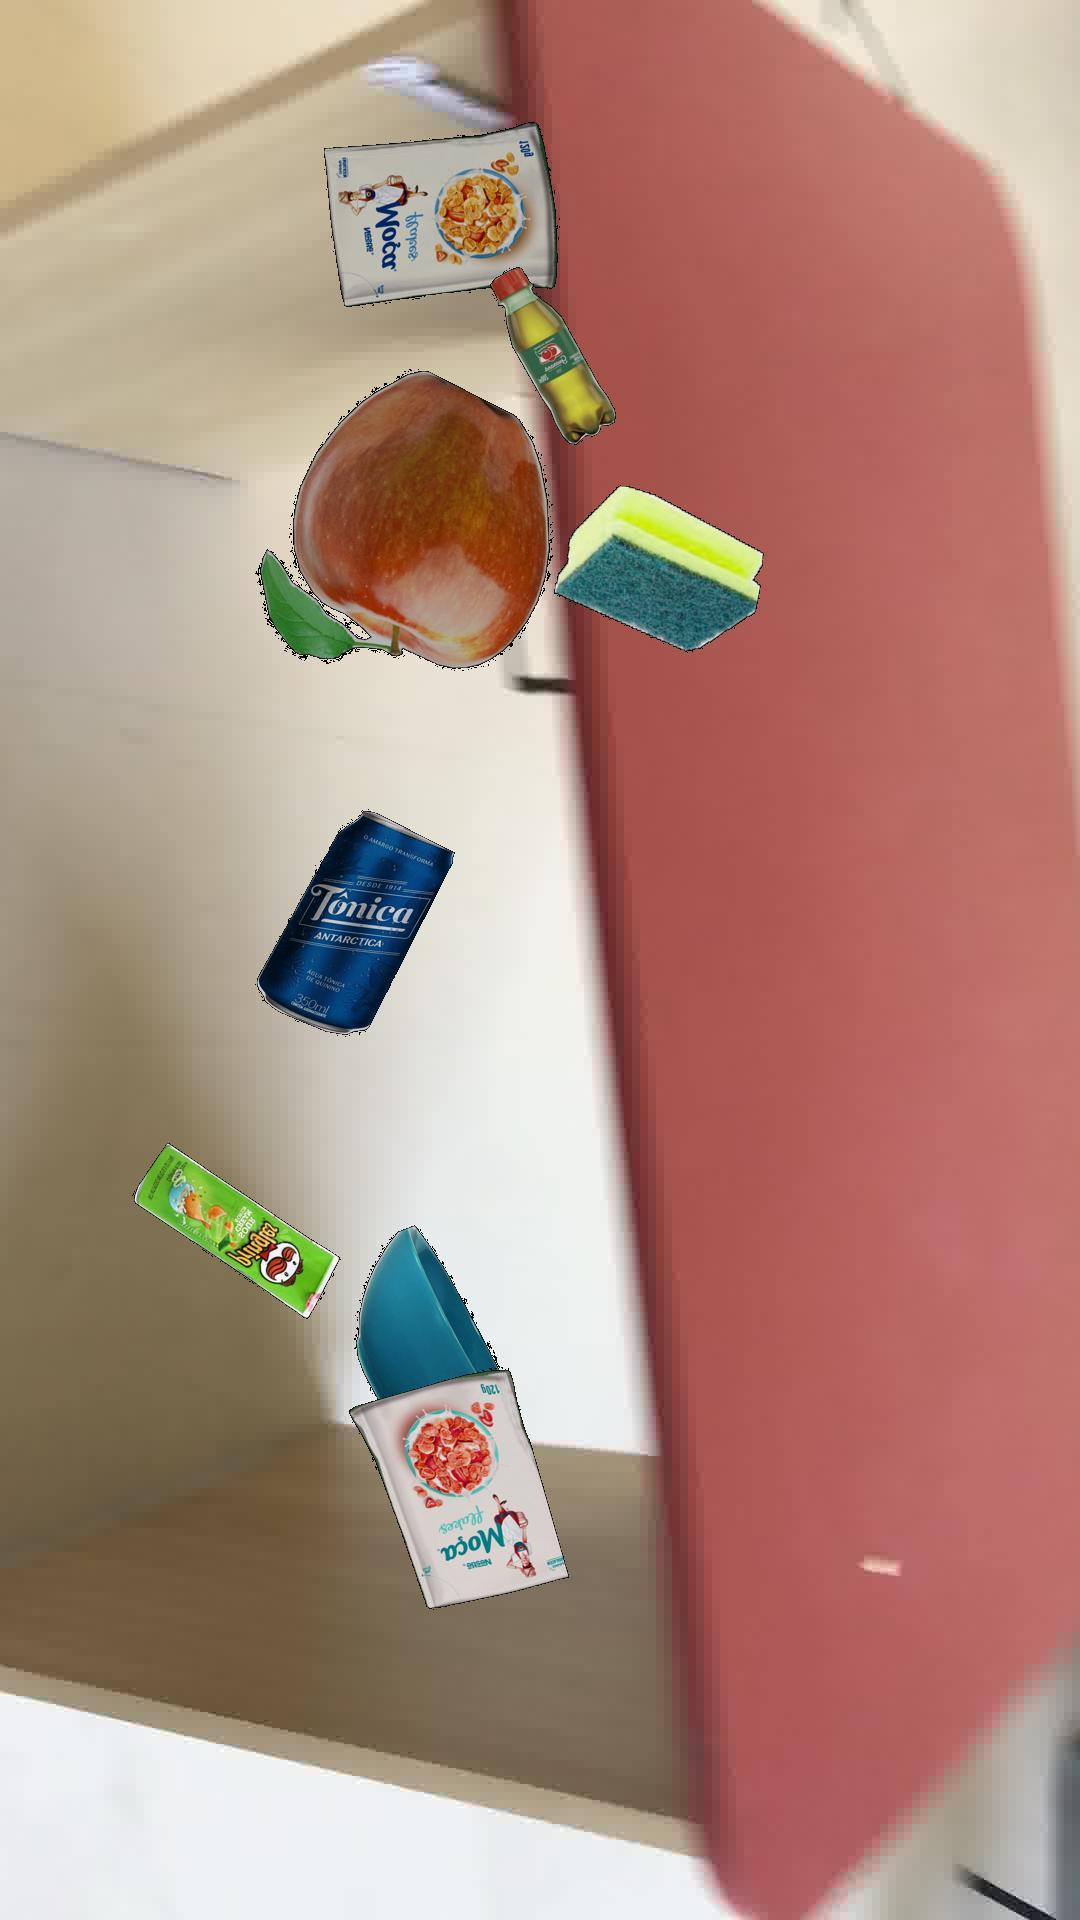apple: (253, 369, 551, 667)
bowl: (352, 1224, 498, 1399)
corn flakes: (348, 1366, 567, 1607), (323, 120, 556, 306)
guarana: (488, 266, 615, 443)
pringles: (132, 1142, 339, 1317)
sponge: (553, 484, 762, 650)
tonic: (256, 810, 454, 1034)
